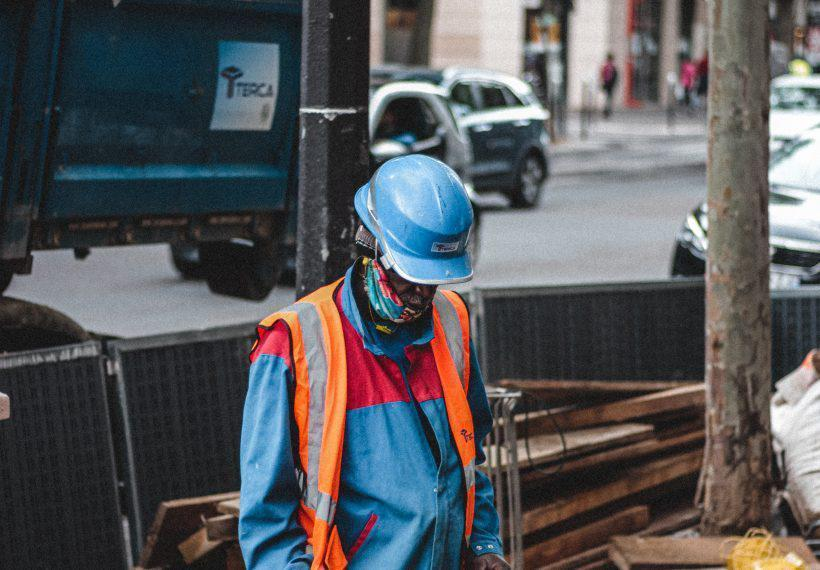helmet: (355, 156, 477, 283)
